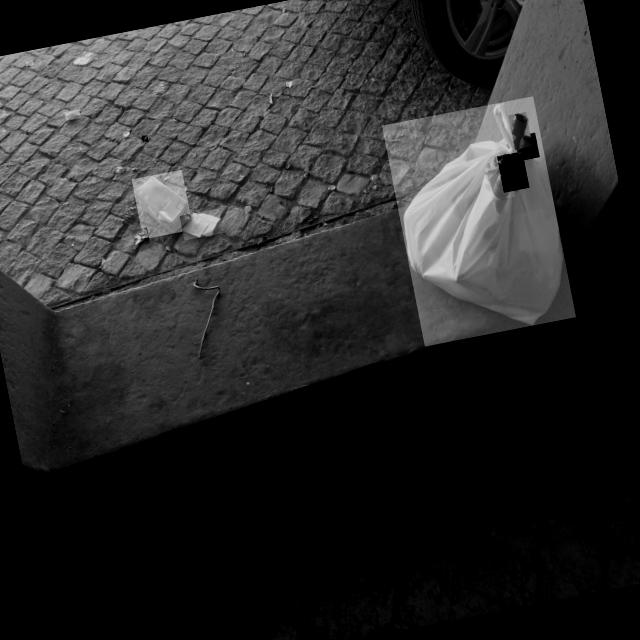Bottle cap: (371, 175, 378, 182), (329, 185, 336, 192), (245, 206, 252, 213), (123, 132, 130, 138), (142, 136, 147, 142), (286, 82, 292, 87)
Food Carton: (134, 176, 191, 234)
Glass bottle: (511, 113, 528, 150), (492, 173, 512, 199), (518, 136, 536, 160)
Other plastic: (500, 154, 523, 191)
Paper bag: (182, 213, 220, 238), (134, 229, 149, 246), (65, 111, 80, 120)
Single-use carrier bag: (403, 103, 562, 325)
Unlabeled litter: (26, 61, 33, 66)
